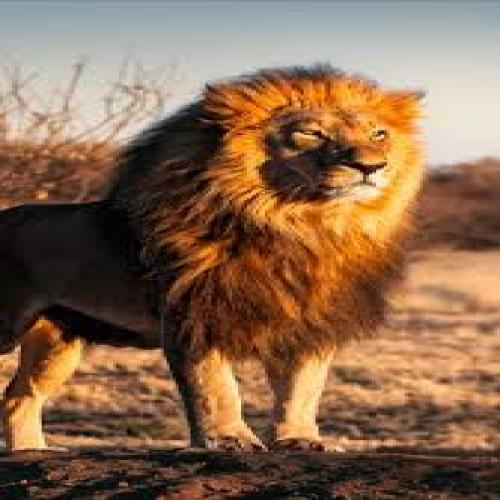lion-endangered: (13, 60, 450, 460)
